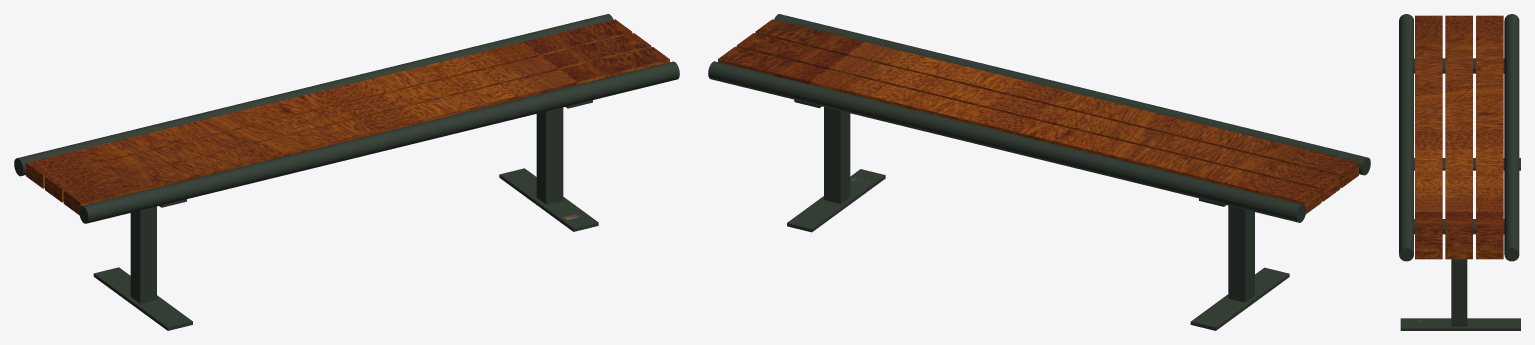
3 views of the same model, side by side, from view 1: azimuth 30°, elevation 25°; view 2: azimuth 150°, elevation 25°; view 3: azimuth 270°, elevation 25° (orthographic). The views are drawn at different scales.
Parts seen in each view (by area): view 1: mesh7_mesh7-geometry, mesh5_mesh5-geometry, mesh4_mesh4-geometry, mesh8_mesh8-geometry, mesh6_mesh6-geometry, mesh2_mesh2-geometry, mesh3_mesh3-geometry; view 2: mesh4_mesh4-geometry, mesh6_mesh6-geometry, mesh8_mesh8-geometry, mesh7_mesh7-geometry, mesh5_mesh5-geometry, mesh2_mesh2-geometry, mesh3_mesh3-geometry; view 3: mesh4_mesh4-geometry, mesh7_mesh7-geometry, mesh8_mesh8-geometry, mesh6_mesh6-geometry, mesh5_mesh5-geometry, mesh2_mesh2-geometry, mesh1_mesh1-geometry, mesh3_mesh3-geometry.
Boxes of the visible parts, bbox=[...] form: mesh7_mesh7-geometry: bbox=[63, 47, 669, 215]; mesh5_mesh5-geometry: bbox=[79, 61, 679, 223]; mesh4_mesh4-geometry: bbox=[26, 19, 632, 188]; mesh8_mesh8-geometry: bbox=[45, 33, 651, 202]; mesh6_mesh6-geometry: bbox=[14, 14, 613, 176]; mesh2_mesh2-geometry: bbox=[499, 100, 598, 231]; mesh3_mesh3-geometry: bbox=[93, 206, 192, 330]; mesh4_mesh4-geometry: bbox=[718, 47, 1321, 214]; mesh6_mesh6-geometry: bbox=[708, 61, 1305, 222]; mesh8_mesh8-geometry: bbox=[736, 33, 1340, 201]; mesh7_mesh7-geometry: bbox=[755, 19, 1358, 187]; mesh5_mesh5-geometry: bbox=[774, 14, 1370, 175]; mesh2_mesh2-geometry: bbox=[787, 99, 885, 232]; mesh3_mesh3-geometry: bbox=[1190, 205, 1289, 330]; mesh4_mesh4-geometry: bbox=[1476, 15, 1503, 259]; mesh7_mesh7-geometry: bbox=[1415, 15, 1442, 259]; mesh8_mesh8-geometry: bbox=[1445, 15, 1472, 259]; mesh6_mesh6-geometry: bbox=[1504, 14, 1519, 261]; mesh5_mesh5-geometry: bbox=[1399, 14, 1413, 261]; mesh2_mesh2-geometry: bbox=[1400, 219, 1520, 330]; mesh1_mesh1-geometry: bbox=[1414, 58, 1504, 73]; mesh3_mesh3-geometry: bbox=[1414, 158, 1520, 170].
Size of the model in its own units: 0.9531 by 0.2179 by 0.2098.
